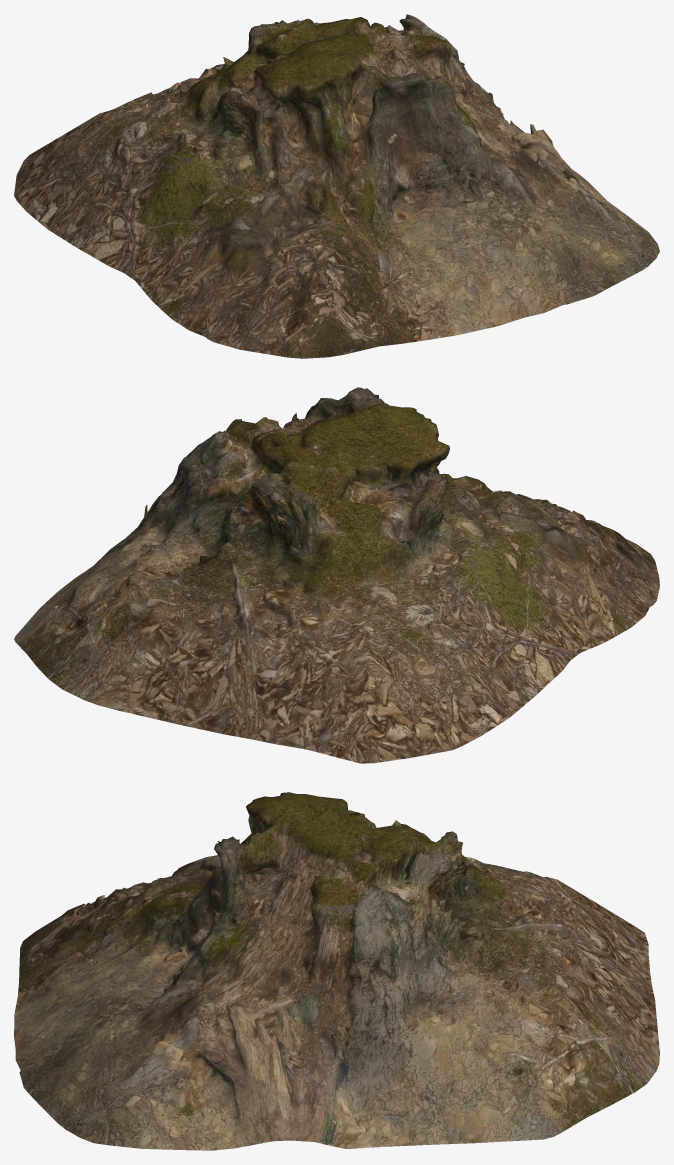
Rendered from tree_stump_01.glb.
3 renders of one model, top to bottom at view 1: azimuth 30°, elevation 25°; view 2: azimuth 150°, elevation 25°; view 3: azimuth 270°, elevation 25°, orthographic. The views are drawn at different scales.
Parts seen in each view (by area): view 1: tree_stump_01; view 2: tree_stump_01; view 3: tree_stump_01.
Boxes of the visible parts, <box> form: tree_stump_01: <box>14,14,659,358</box>; tree_stump_01: <box>14,387,659,763</box>; tree_stump_01: <box>14,792,659,1150</box>.
Size of the model in its own units: 1.43 by 0.5725 by 1.59.
1 material, 1 textured.
